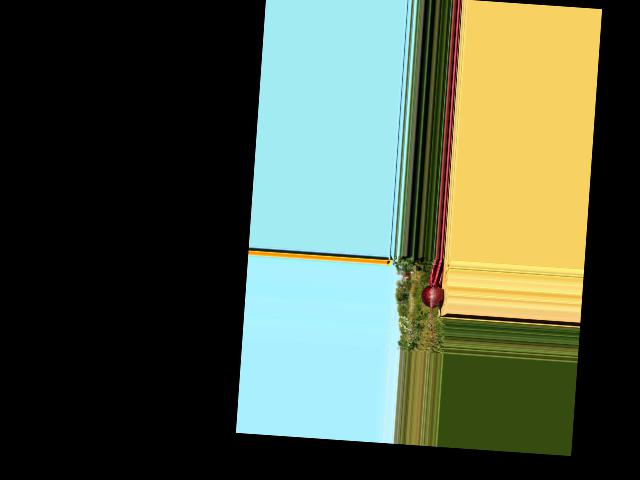beet: (418, 256, 446, 350)
